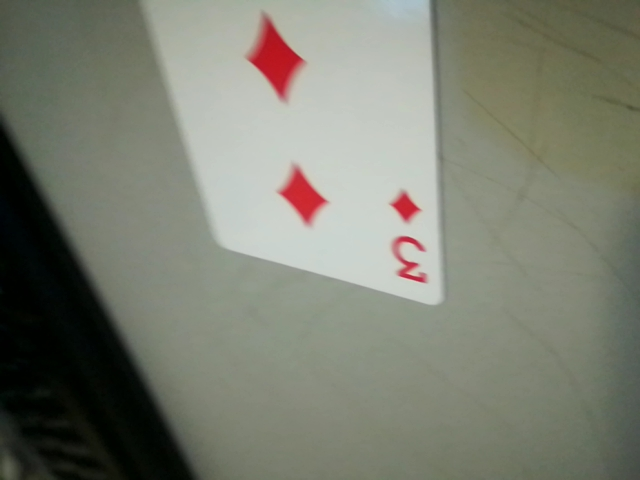fk 3: (376, 182, 441, 298)
